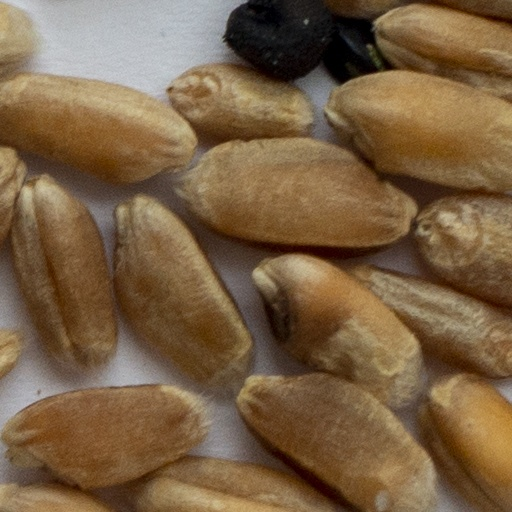Agrostemma-poly: (226, 0, 335, 79)
Fallopia-Convolvulus-poly: (325, 19, 379, 79)
